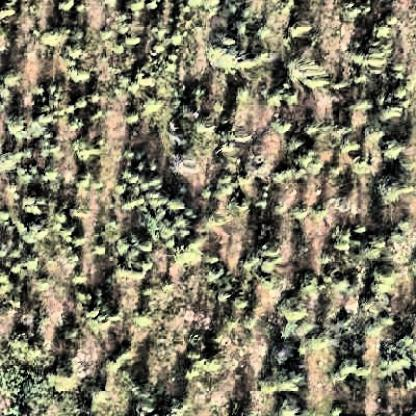tree-top: (120, 154, 198, 248), (1, 357, 58, 416), (328, 221, 386, 270), (205, 31, 265, 73), (284, 135, 330, 184), (73, 288, 122, 333), (6, 106, 67, 142), (239, 237, 284, 281), (250, 366, 310, 398), (285, 52, 330, 94), (347, 34, 392, 75), (376, 338, 416, 377), (374, 173, 411, 209), (365, 265, 402, 301), (1, 144, 41, 171), (297, 267, 327, 301), (172, 239, 208, 266), (72, 134, 103, 165), (134, 385, 164, 416), (332, 268, 363, 297), (279, 298, 312, 323), (20, 221, 50, 246), (332, 358, 360, 384), (380, 138, 407, 164), (37, 25, 63, 51), (198, 351, 222, 377), (1, 67, 25, 92), (23, 194, 47, 218), (74, 170, 96, 191), (283, 401, 306, 416)
